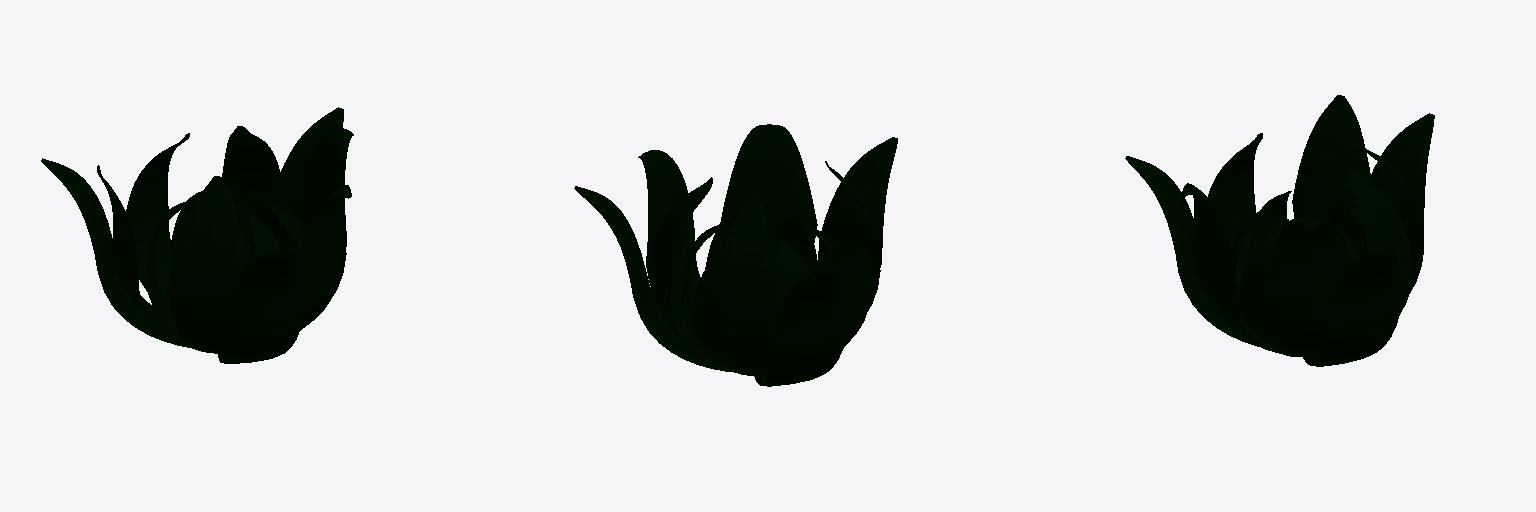
Rendered from bush.obj.
The picture shows the model from 3 angles: view 1: azimuth 30°, elevation 25°; view 2: azimuth 150°, elevation 25°; view 3: azimuth 270°, elevation 25°; orthographic projection.
Parts seen in each view (by area): view 1: BezierCurve.016; view 2: BezierCurve.016; view 3: BezierCurve.016.
Boxes of the visible parts, x1,y1,x2,y2 form: BezierCurve.016: [41, 107, 353, 363]; BezierCurve.016: [574, 124, 897, 386]; BezierCurve.016: [1125, 95, 1434, 366].
Size of the model in its own units: 1.5 by 1.01 by 1.43.